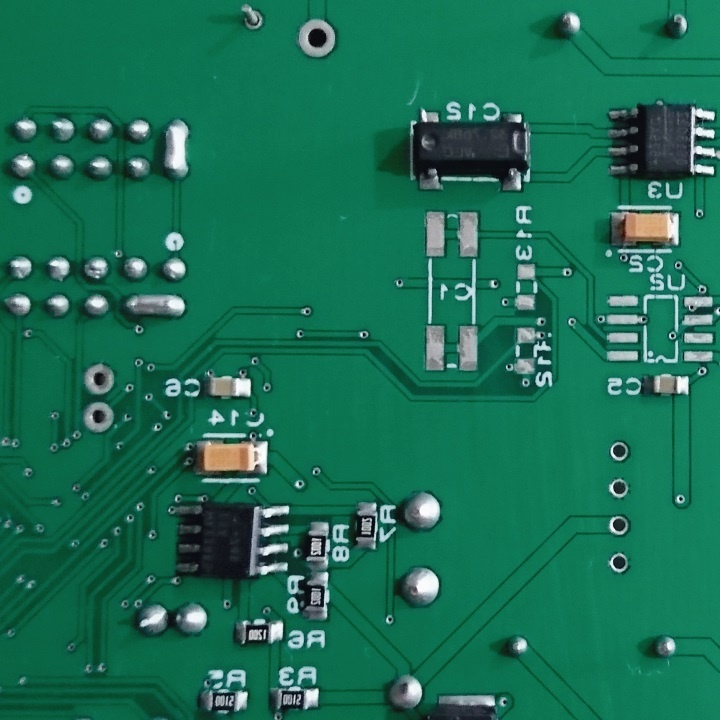F: (293, 17, 342, 59), (83, 398, 118, 438), (81, 361, 119, 397), (238, 1, 267, 35), (606, 513, 633, 540), (608, 548, 633, 577), (607, 438, 633, 465), (607, 475, 630, 503)
P: (157, 117, 193, 180), (119, 292, 189, 323)
